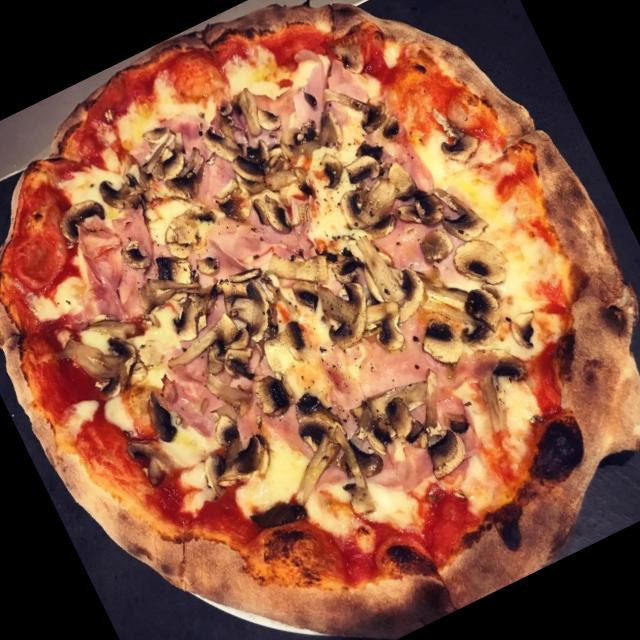mushrooms: (436, 334, 554, 458), (308, 263, 418, 381), (320, 384, 438, 491), (391, 366, 484, 482), (346, 221, 438, 337), (210, 260, 294, 358), (262, 436, 357, 521), (436, 269, 522, 358), (156, 305, 250, 386), (64, 318, 148, 408), (312, 424, 388, 522), (182, 412, 262, 498), (285, 381, 359, 470), (196, 426, 282, 502), (268, 232, 344, 318), (334, 170, 412, 248), (444, 222, 517, 299), (324, 69, 394, 146), (422, 94, 486, 172), (129, 116, 195, 190), (150, 198, 221, 262), (152, 142, 220, 208), (428, 176, 488, 246), (50, 192, 114, 252), (98, 163, 158, 225), (226, 79, 284, 142), (196, 115, 252, 179), (258, 152, 317, 212), (149, 243, 204, 302), (124, 426, 174, 488), (332, 144, 388, 198), (225, 138, 280, 190), (391, 186, 446, 238), (138, 386, 181, 446), (252, 187, 298, 243), (416, 322, 473, 366), (247, 367, 294, 419), (218, 335, 264, 385), (372, 160, 420, 207), (212, 175, 257, 224), (270, 119, 319, 164), (504, 306, 546, 352), (307, 108, 347, 156), (312, 147, 348, 185), (118, 235, 152, 273)
pizza: (0, 3, 640, 640)
